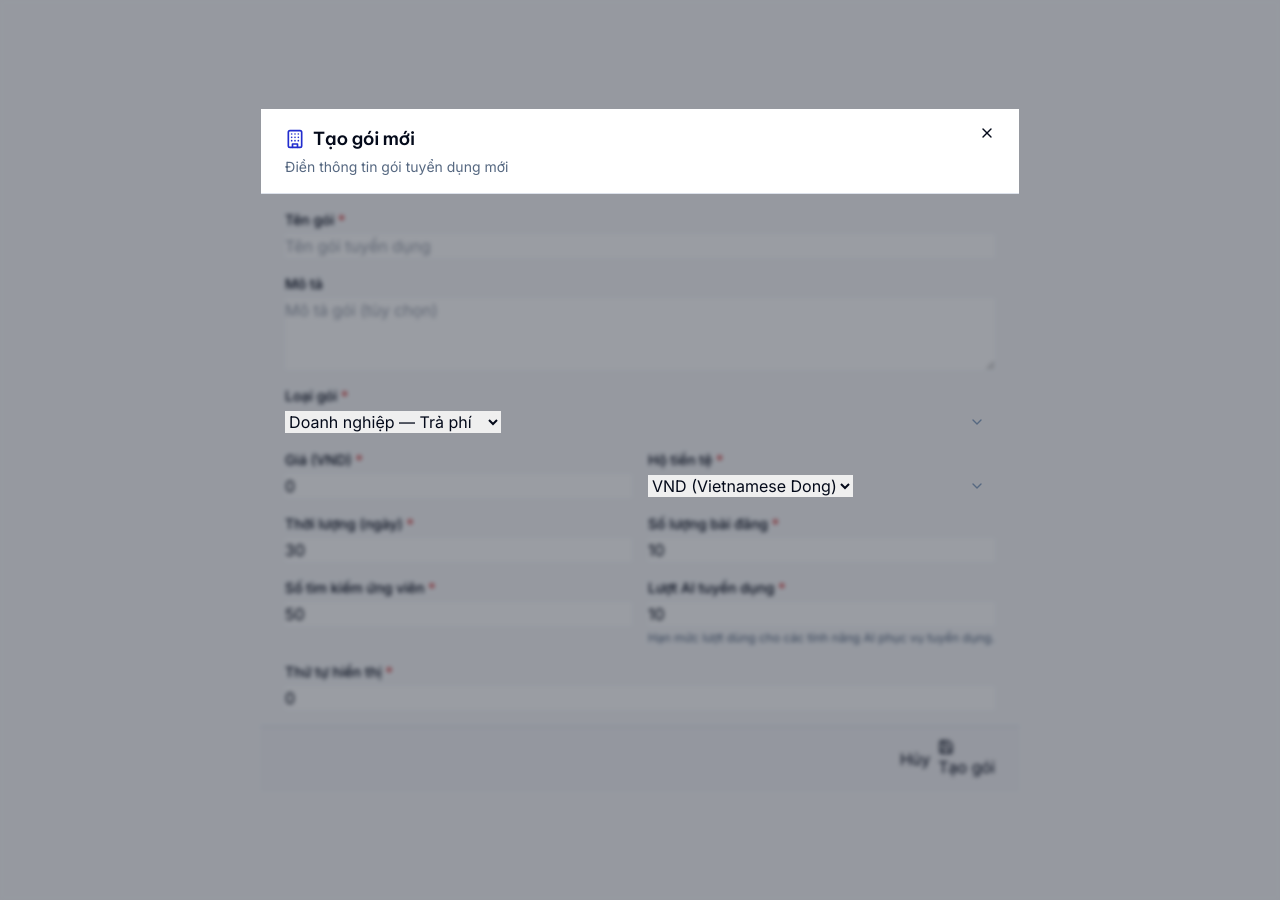
Test case: AdminPlanForm › create › hides recruitment quota controls for Candidate Free
Select "Ứng viên — Miễn phí" in the dropdown labelled "Loại gói *" at coordinates (393, 422), box x1=285 y1=411 x2=501 y2=433
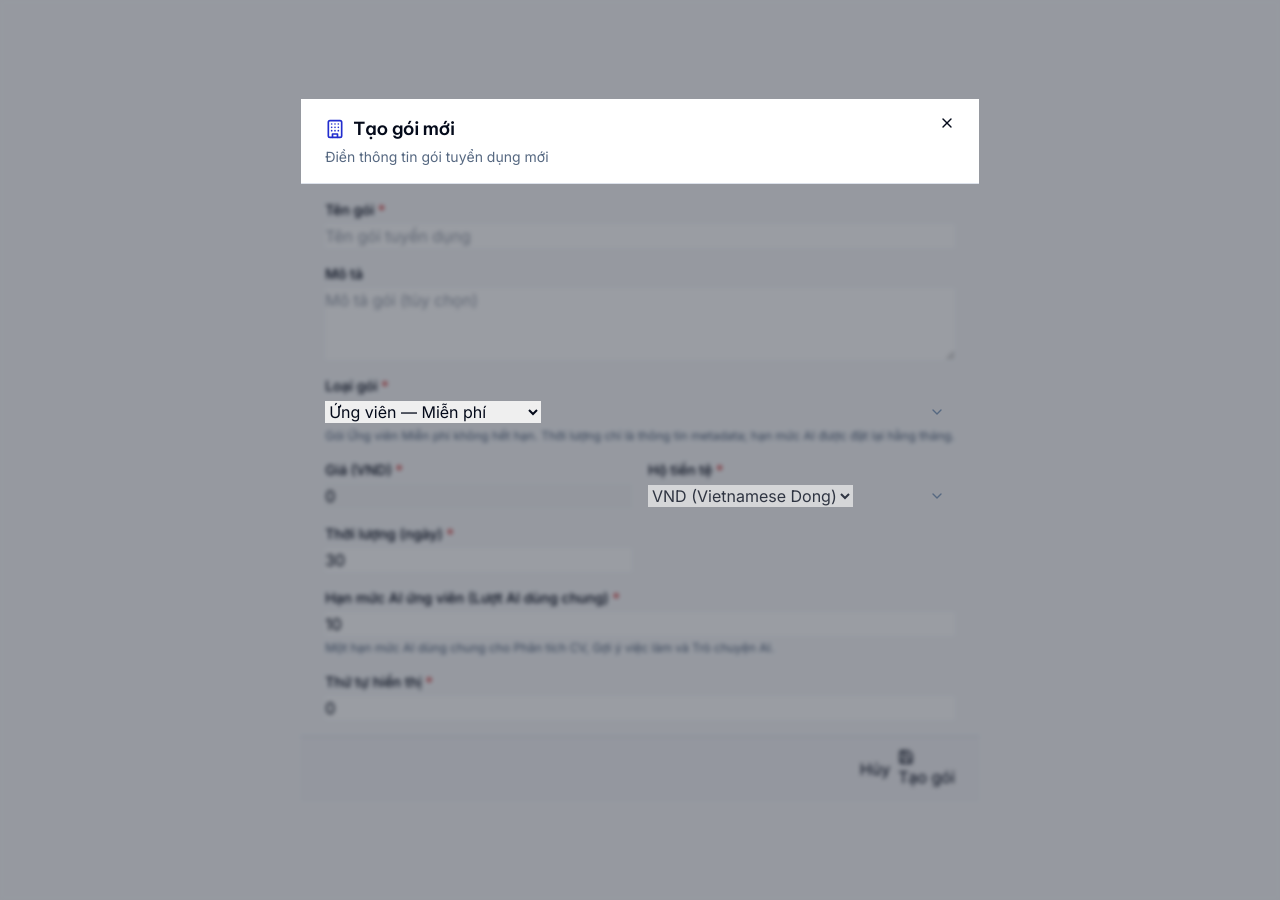
Check: the label labelled "Số lượng bài đăng" is gone
Check: the label labelled "Số tìm kiếm ứng viên" is gone
